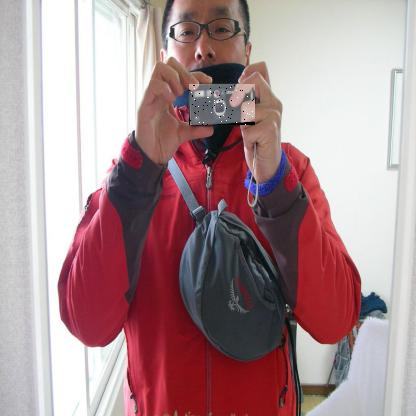Camera: (190, 85, 257, 127)
